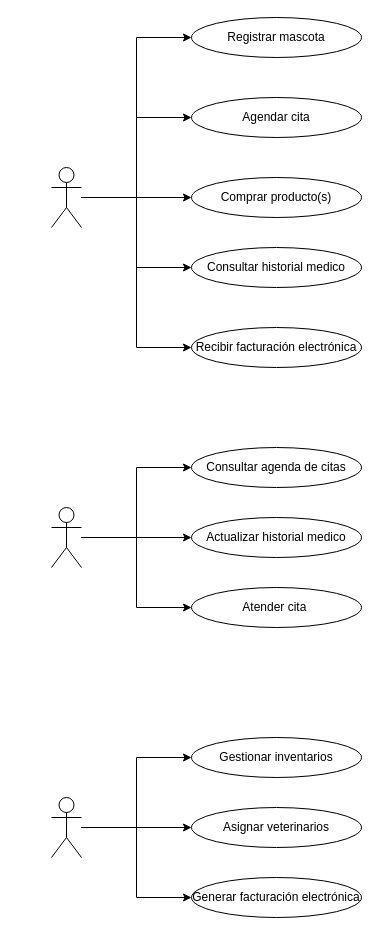
The diagram is 379 pixels wide and 935 high, and some of its shapes have lost their labels. Each missing label, with the centre of its shape:
Cliente: the point at 66,197
PersonalEnTienda: the point at 66,827
Veterinario: the point at 66,537
